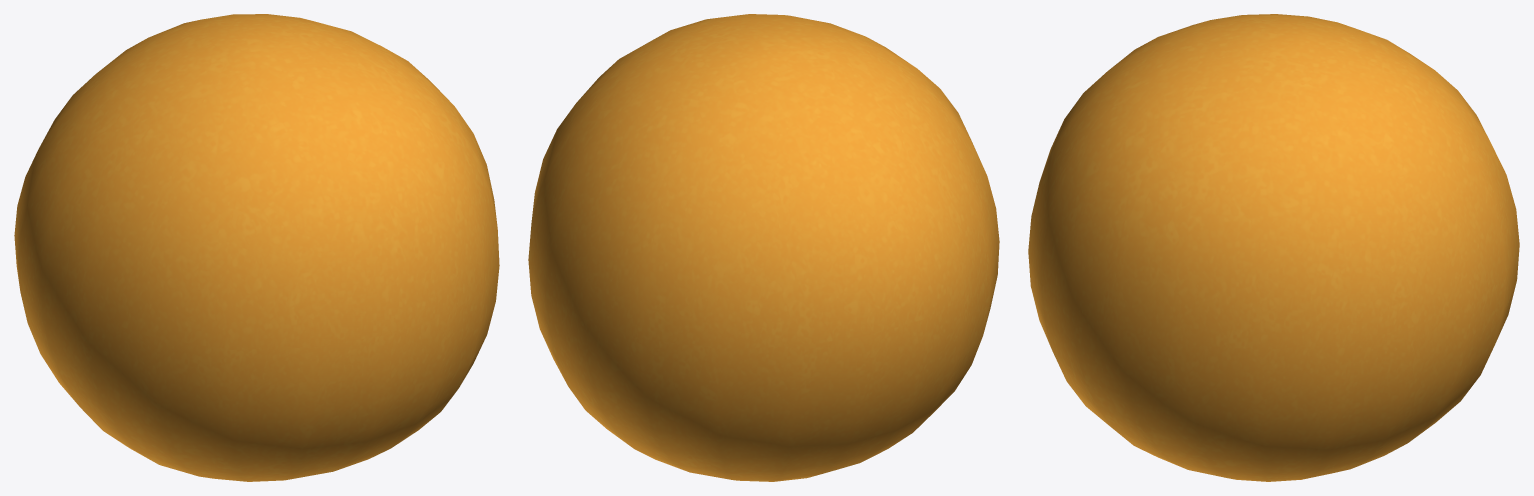
Rendered from donutsTest0924.fbx.
3 views of the same model, side by side, from view 1: azimuth 30°, elevation 25°; view 2: azimuth 150°, elevation 25°; view 3: azimuth 270°, elevation 25° (orthographic).
Visible parts, largest first — view 1: pSphere1; view 2: pSphere1; view 3: pSphere1.
Part boxes in pixels (bbox=[...]): pSphere1: bbox=[14, 14, 499, 481]; pSphere1: bbox=[528, 14, 999, 481]; pSphere1: bbox=[1028, 14, 1519, 481].
Bounding box in the file's own units: 2.9 × 2.76 × 2.96.
Materials: 1 (1 with a texture image).
